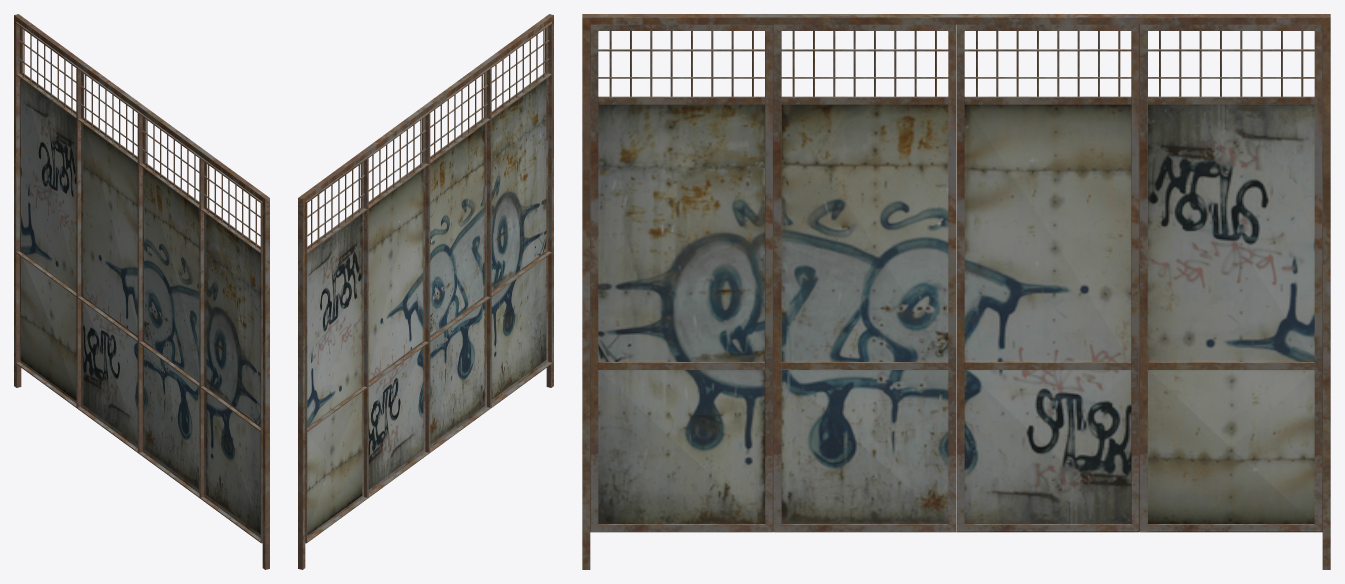
The model's file is big_metal_door.glb.
The picture shows the model from 3 angles, left to right: view 1: azimuth 30°, elevation 25°; view 2: azimuth 150°, elevation 25°; view 3: azimuth 270°, elevation 25°; orthographic projection. The views are drawn at different scales.
Parts seen in each view (by area): view 1: big_metal_door_01; view 2: big_metal_door_01; view 3: big_metal_door_01.
Boxes of the visible parts, bbox=[...] form: big_metal_door_01: bbox=[14, 14, 269, 569]; big_metal_door_01: bbox=[298, 14, 553, 569]; big_metal_door_01: bbox=[582, 14, 1330, 569].
Size of the model in its own units: 0.05 by 3 by 3.68.
1 material, 1 textured.
